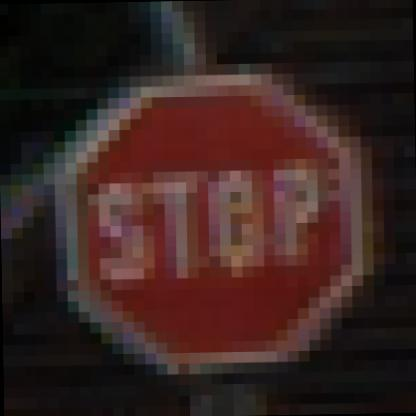stop: (50, 78, 381, 372)
